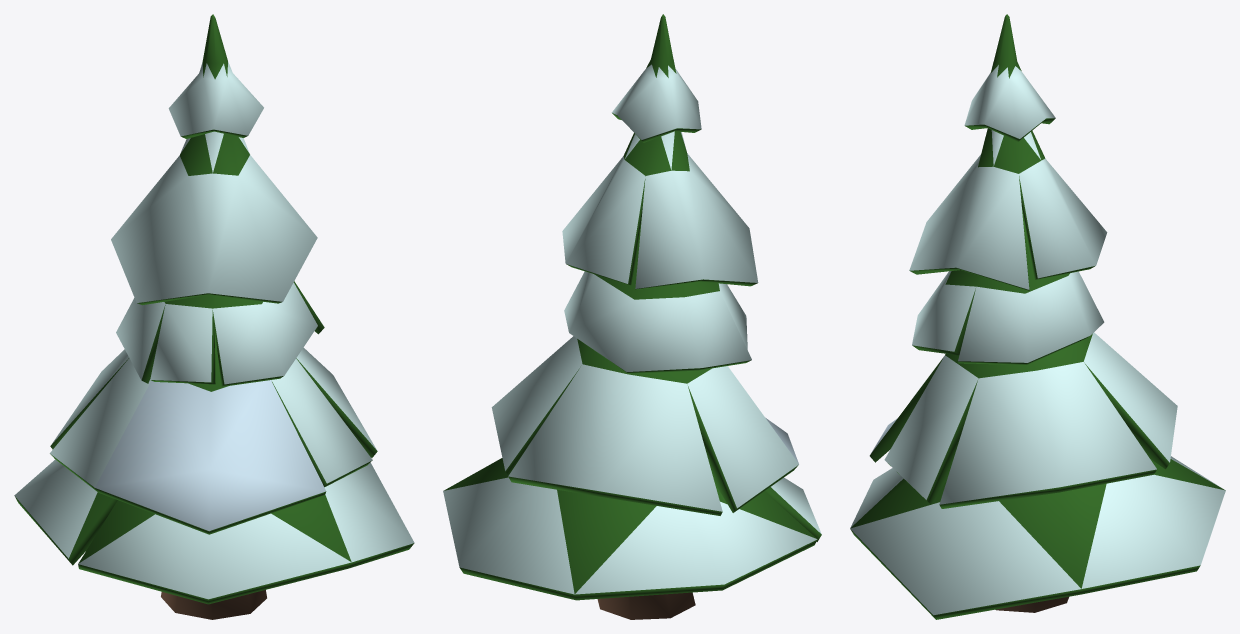
File: Tree.fbx
The picture shows the model from 3 angles, left to right: view 1: azimuth 30°, elevation 25°; view 2: azimuth 150°, elevation 25°; view 3: azimuth 270°, elevation 25°; orthographic projection. The views are drawn at different scales.
Parts seen in each view (by area): view 1: Tree; view 2: Tree; view 3: Tree.
Boxes of the visible parts, x1,y1,x2,y2 form: Tree: (14,14,414,619); Tree: (443,14,821,619); Tree: (850,14,1225,619).
Size of the model in its own units: 3.68 by 6.19 by 3.68.
